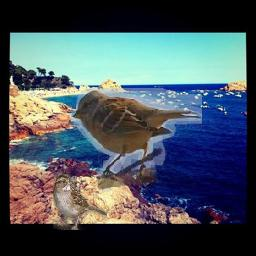Sparrow: (70, 89, 202, 196), (53, 174, 107, 230)
